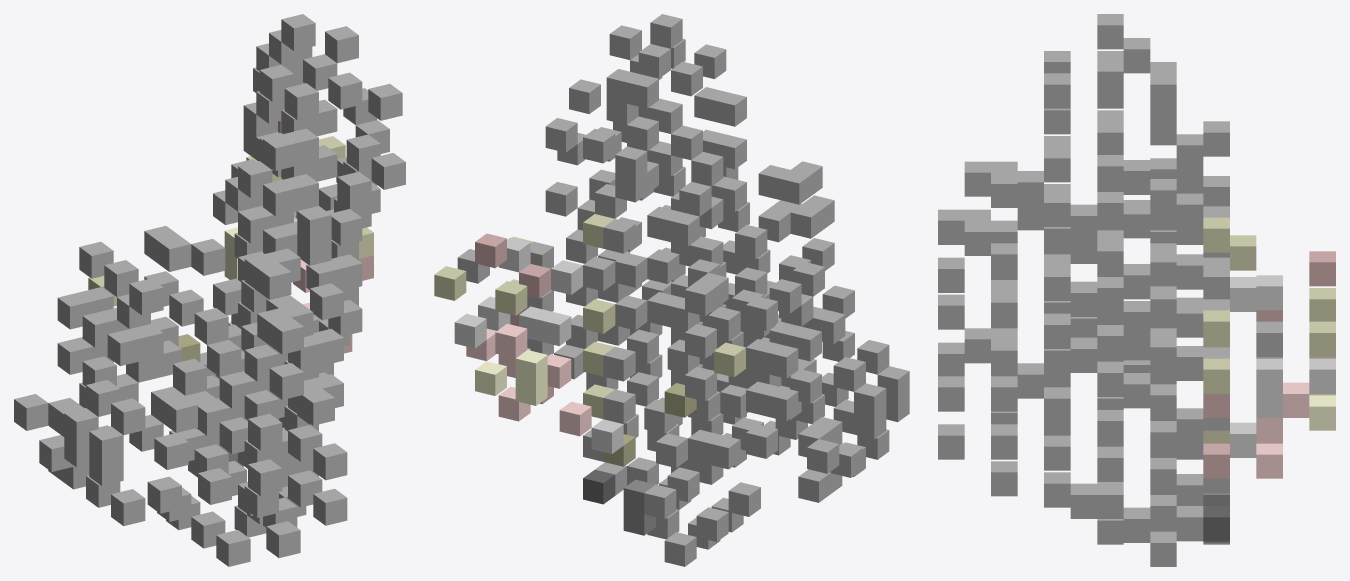
File: object_011_voxel.obj
The picture shows the model from 3 angles, left to right: view 1: azimuth 30°, elevation 25°; view 2: azimuth 150°, elevation 25°; view 3: azimuth 270°, elevation 25°; orthographic projection. The views are drawn at different scales.
Bounding box in the file's own units: 0.17 × 0.23 × 0.15.
